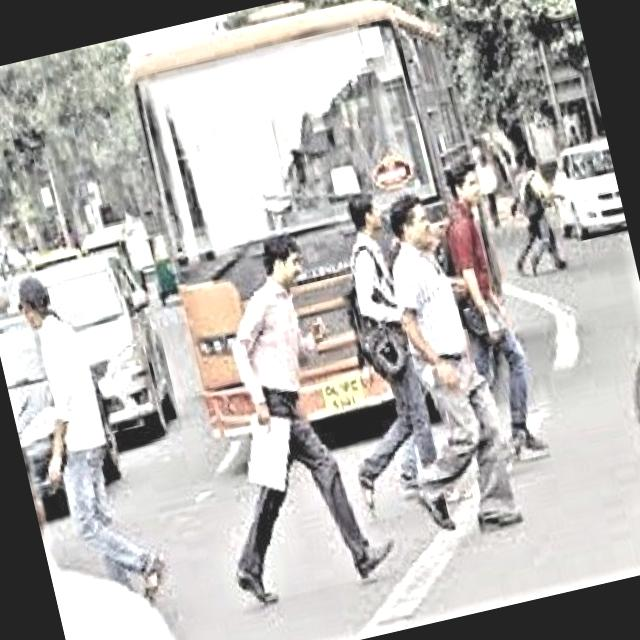Person: (162, 218, 400, 620), (349, 177, 528, 552), (5, 258, 174, 622), (300, 184, 455, 511), (431, 147, 549, 464)
